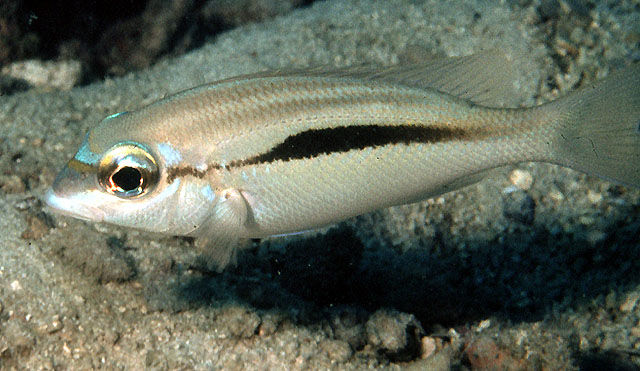fish: (44, 50, 638, 273)
